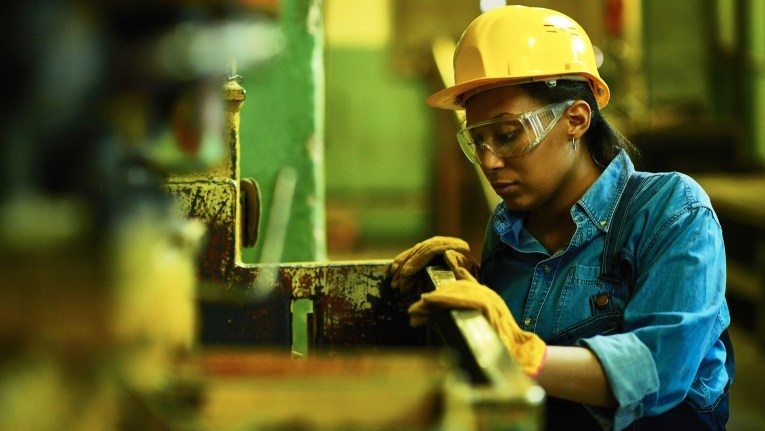yellow: (449, 9, 602, 211)
